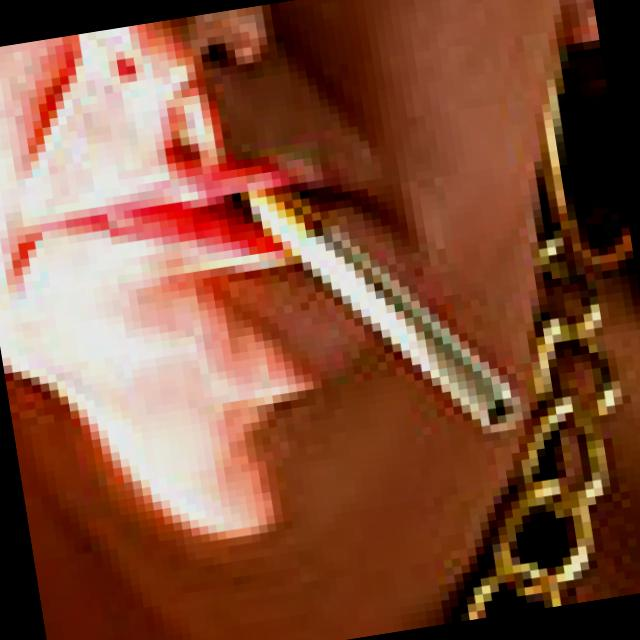cigarette: (250, 152, 522, 464)
